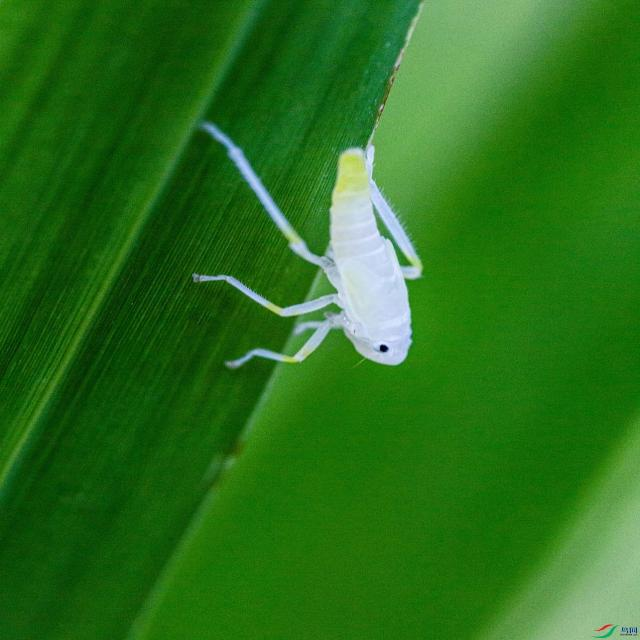Yechan: (246, 138, 417, 378)
